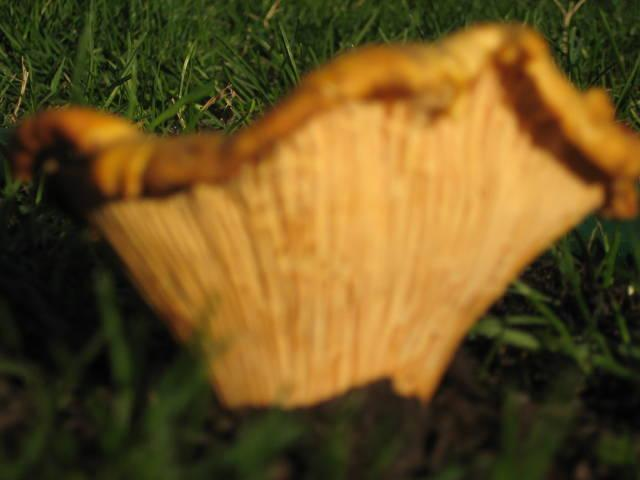Edible Mushroom: (8, 20, 639, 413)
